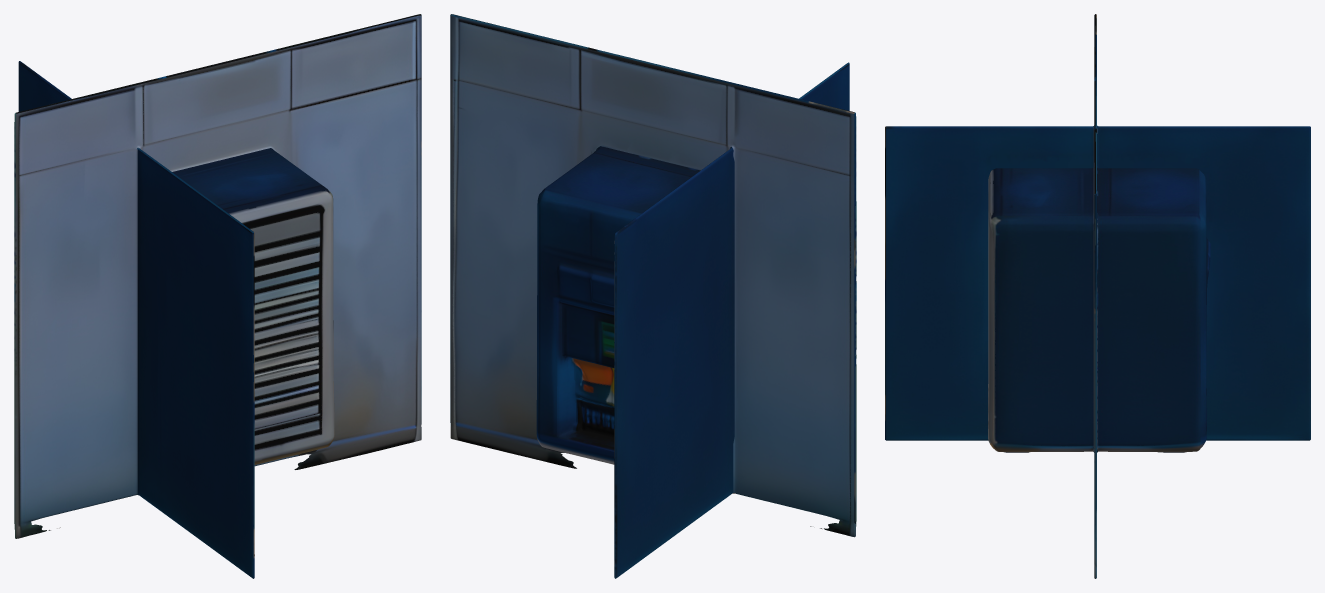
File: DesktopTower.glb
The picture shows the model from 3 angles, left to right: view 1: azimuth 30°, elevation 25°; view 2: azimuth 150°, elevation 25°; view 3: azimuth 270°, elevation 25°; orthographic projection. The views are drawn at different scales.
Visible parts, largest first — view 1: DesktopTower; view 2: DesktopTower; view 3: DesktopTower.
Part boxes in pixels (x1=…): DesktopTower: x1=14, y1=14, x2=421, y2=578; DesktopTower: x1=450, y1=14, x2=856, y2=578; DesktopTower: x1=885, y1=14, x2=1310, y2=578.
Size of the model in its own units: 1.99 by 1.99 by 1.99.
1 material, 1 textured.
